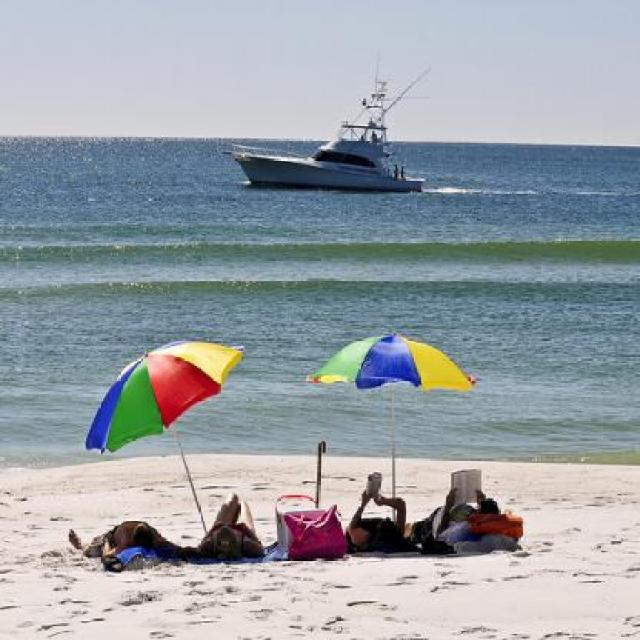ship: (225, 120, 428, 194)
